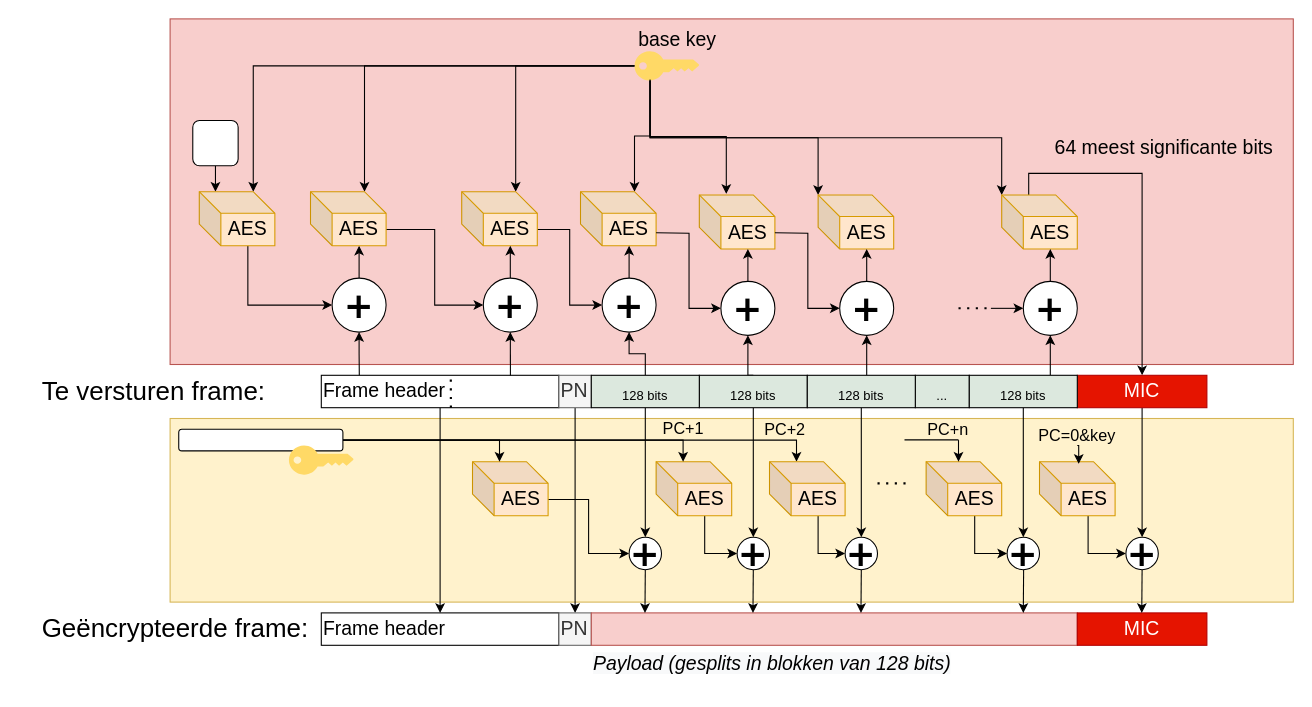
This 1312x707 diagram has some shape labels left out. The box of each missing label's shape, as (x1, y1, x2, y2) in pixels:
CBC-MAC (Integrity): (169, 18, 1293, 364)
Counter-mode (Encryptie): (169, 417, 1293, 602)
Geëncrypteerde payload: (590, 612, 1077, 645)
IV: (192, 119, 238, 166)
Payload counter (PC) & base key: (178, 428, 343, 451)
